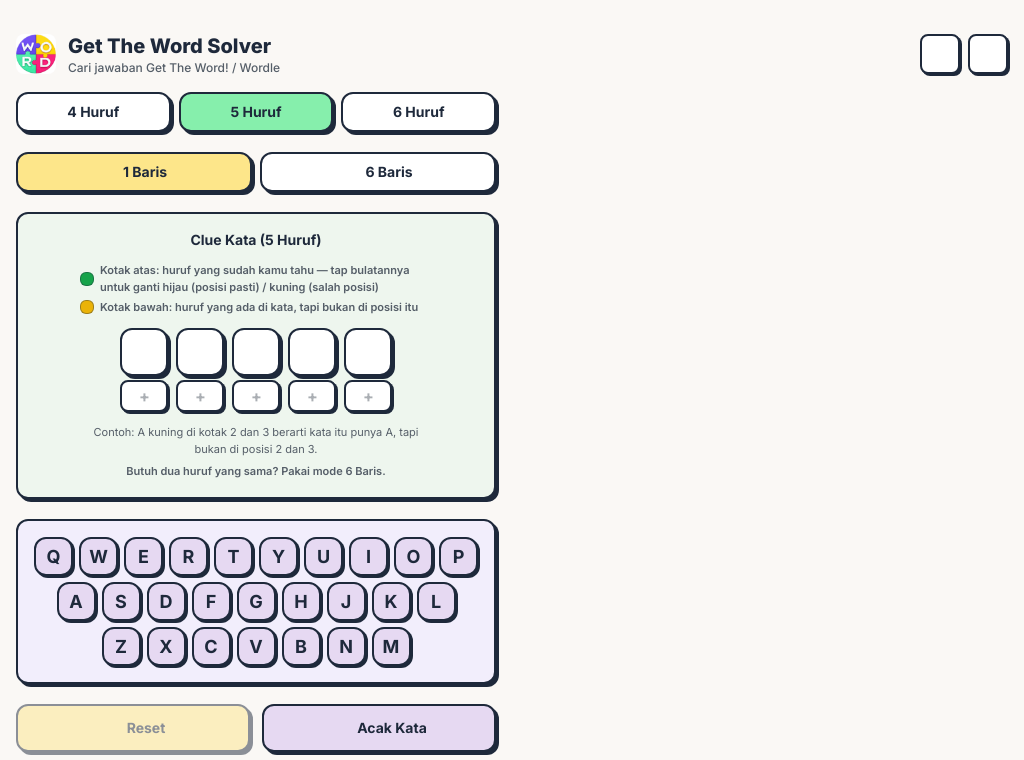
Test case: single row mode › ignores a letter typed twice in the same yellow box
Type "AA" into the 2nd text box with placeholder "+" at (200, 396), box [176, 380, 224, 412]
(page scrolled)
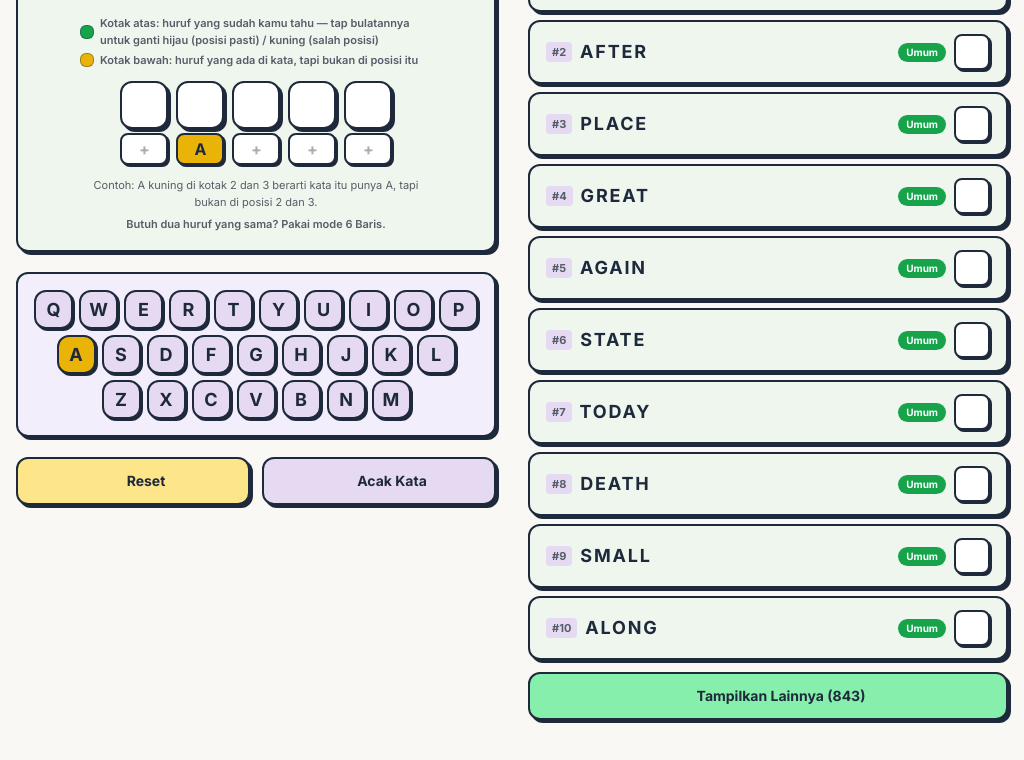
Now the text "AFTER" is shown, box [580, 38, 648, 66]
Now the text "PLACE" is shown, box [580, 110, 648, 138]
Now the text "GREAT" is shown, box [581, 182, 650, 210]
